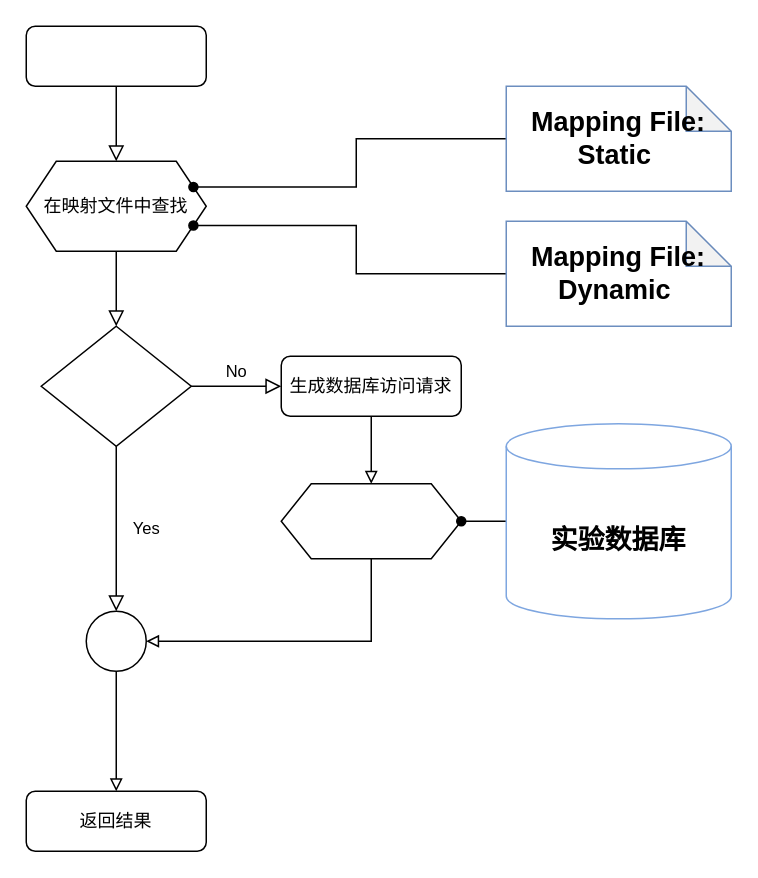
The diagram is 758 pixels wide and 878 high, and some of its shapes have lost their labels. Each missing label, with the box of its shape:
URI 访问请求: (25, 25, 206, 86)
从数据库读取: (280, 482, 461, 559)
是静态数据？: (40, 325, 191, 446)
